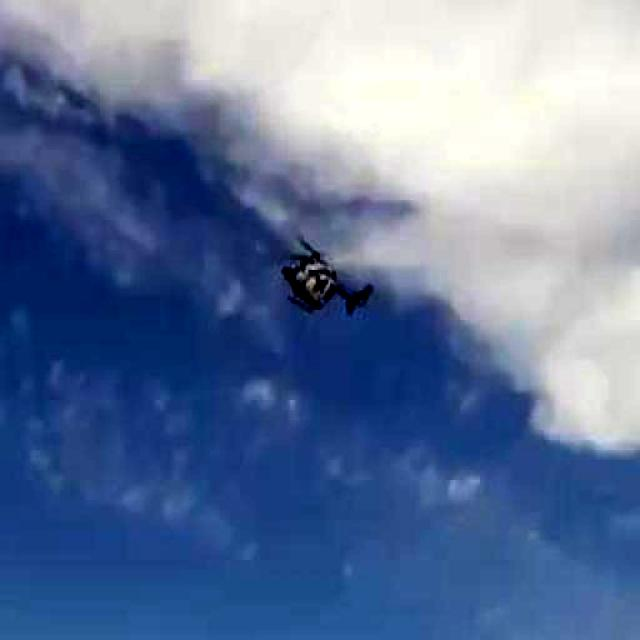drone: (242, 195, 386, 348)
